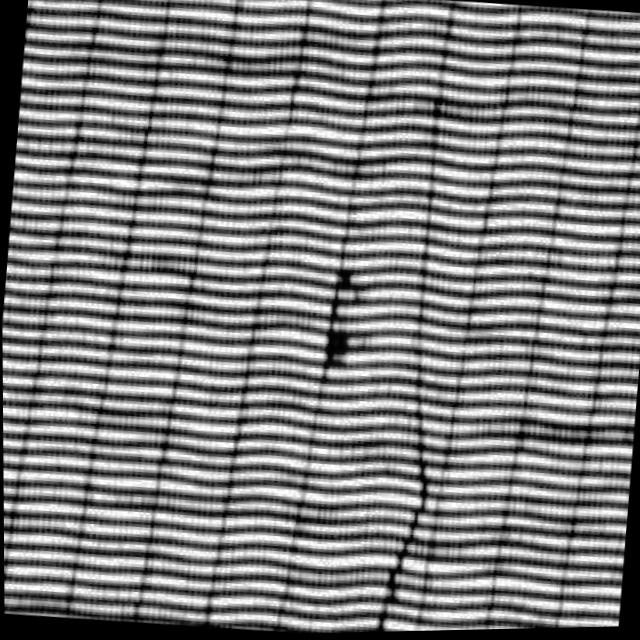Stitch: (328, 351, 479, 639)
